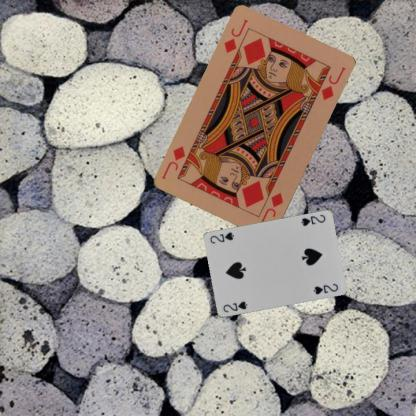2s: (220, 298, 249, 314), (298, 212, 327, 228)
Jd: (256, 190, 285, 228), (221, 17, 250, 55)
